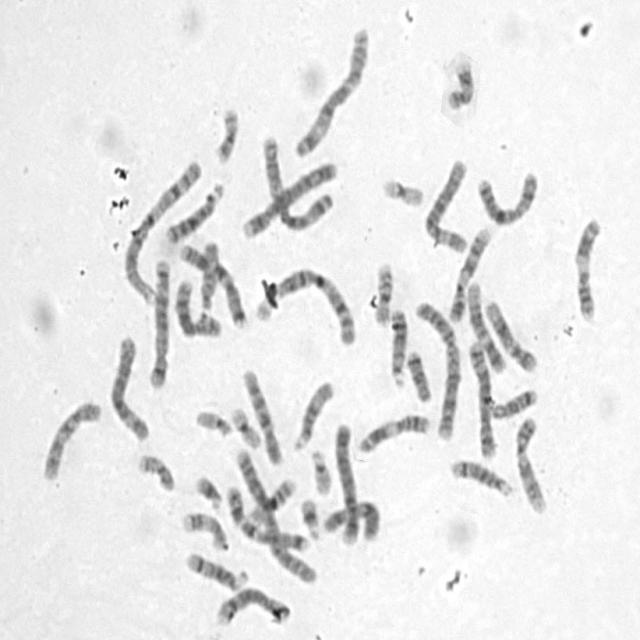A1: (120, 155, 204, 305), (250, 260, 360, 348)
A2: (229, 442, 319, 586), (410, 294, 462, 442)
A3: (291, 22, 372, 160), (260, 129, 335, 233)
B4: (239, 156, 339, 240), (332, 417, 362, 547)
B5: (465, 334, 500, 461), (146, 254, 172, 391)
C10: (38, 394, 104, 484), (238, 364, 284, 466)
C11: (571, 211, 604, 323), (354, 409, 433, 455)
C12: (463, 274, 508, 374), (482, 294, 538, 374)
C6: (420, 153, 471, 254), (106, 331, 152, 442)
C7: (221, 480, 312, 556), (175, 239, 248, 328)
C8: (213, 582, 294, 628), (170, 274, 223, 340)
C9: (444, 221, 492, 323), (512, 410, 550, 516)
D13: (160, 177, 223, 246), (386, 304, 409, 390)
D14: (446, 453, 514, 499), (181, 547, 249, 592)
D15: (289, 375, 335, 452), (198, 236, 222, 313)
E16: (246, 472, 300, 526), (370, 256, 396, 328)
E17: (179, 506, 229, 552), (444, 54, 476, 111)
E18: (403, 346, 434, 404), (488, 384, 539, 419)
F19: (227, 401, 263, 450), (378, 172, 426, 208)
F20: (134, 449, 177, 493), (211, 102, 241, 165)
G21: (191, 470, 224, 513), (297, 492, 322, 541)
G22: (307, 444, 335, 497), (192, 405, 234, 439)
X: (473, 166, 541, 227), (318, 493, 384, 544)
